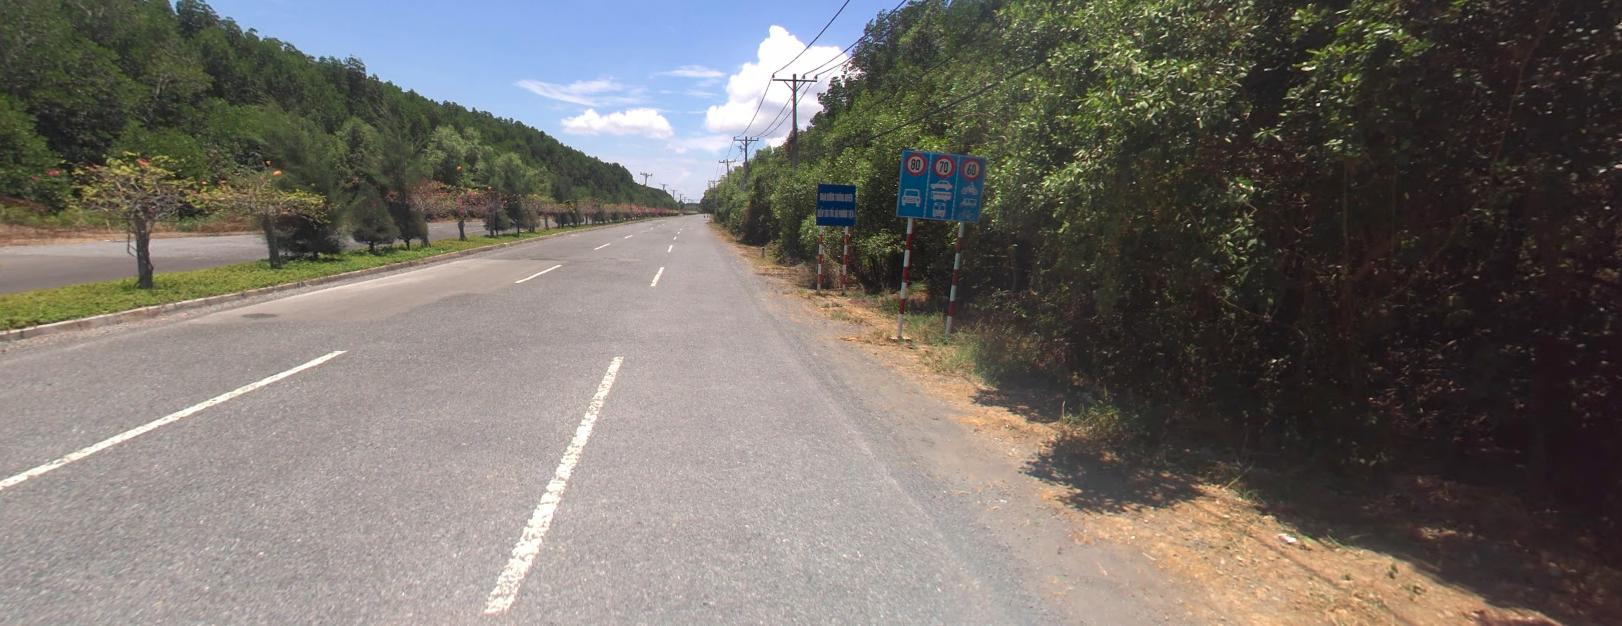Gioi han toc do: (932, 152, 954, 176), (905, 151, 926, 174), (960, 155, 981, 178)
